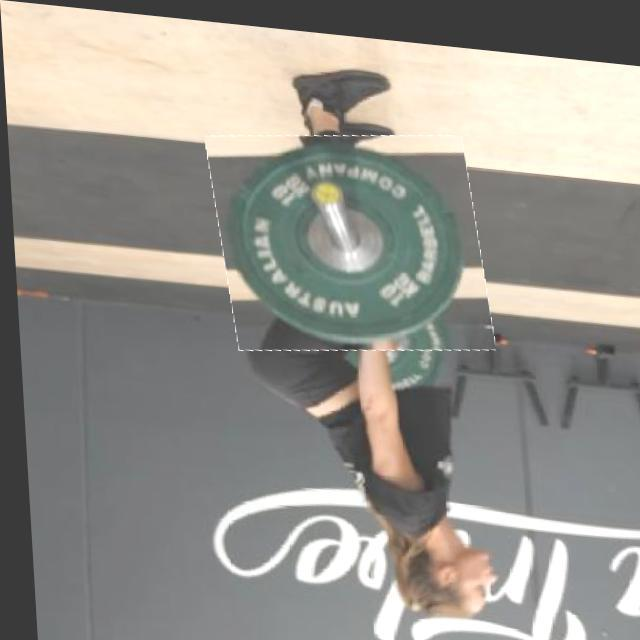barbell: (208, 113, 488, 361)
